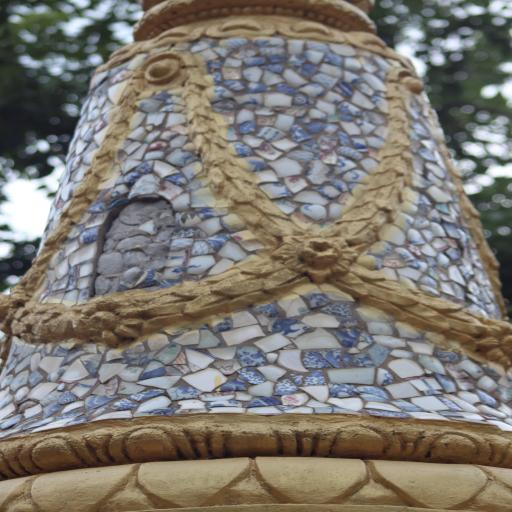hoa: (278, 232, 354, 287), (75, 302, 146, 342), (481, 322, 512, 367)
